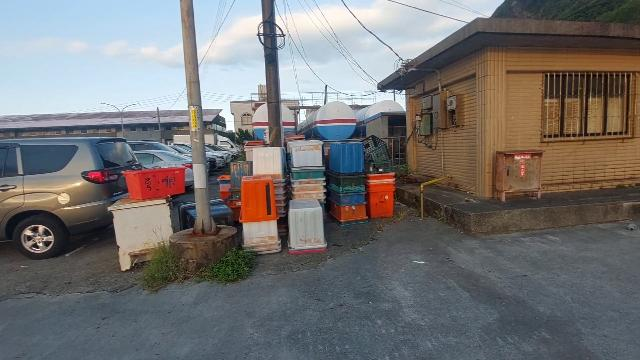pollute: (210, 137, 396, 257), (107, 194, 182, 272), (122, 164, 186, 201)
